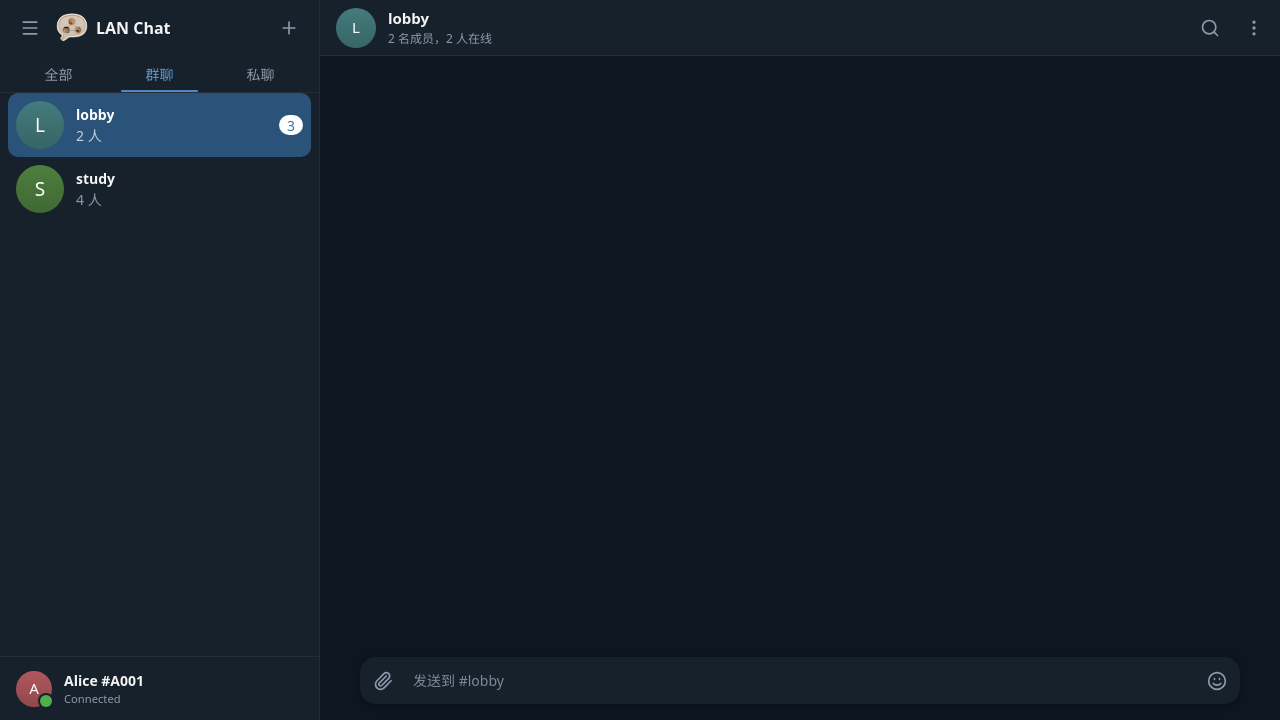
WorkspacePage › toggles the info panel from the header
Click the button with aria-label "会话信息".
click(356, 28)  # box [328,3,1184,52]
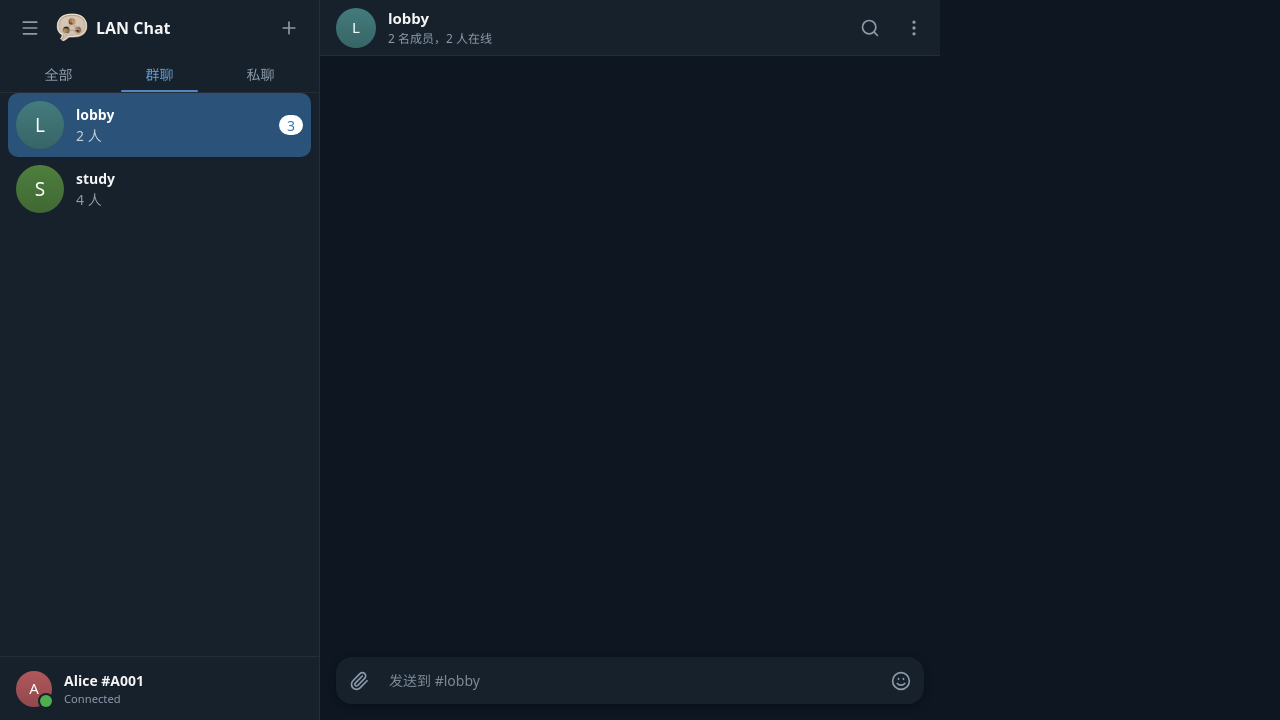
Click the button with aria-label "会话信息".
click(356, 28)  # box [328,3,844,52]
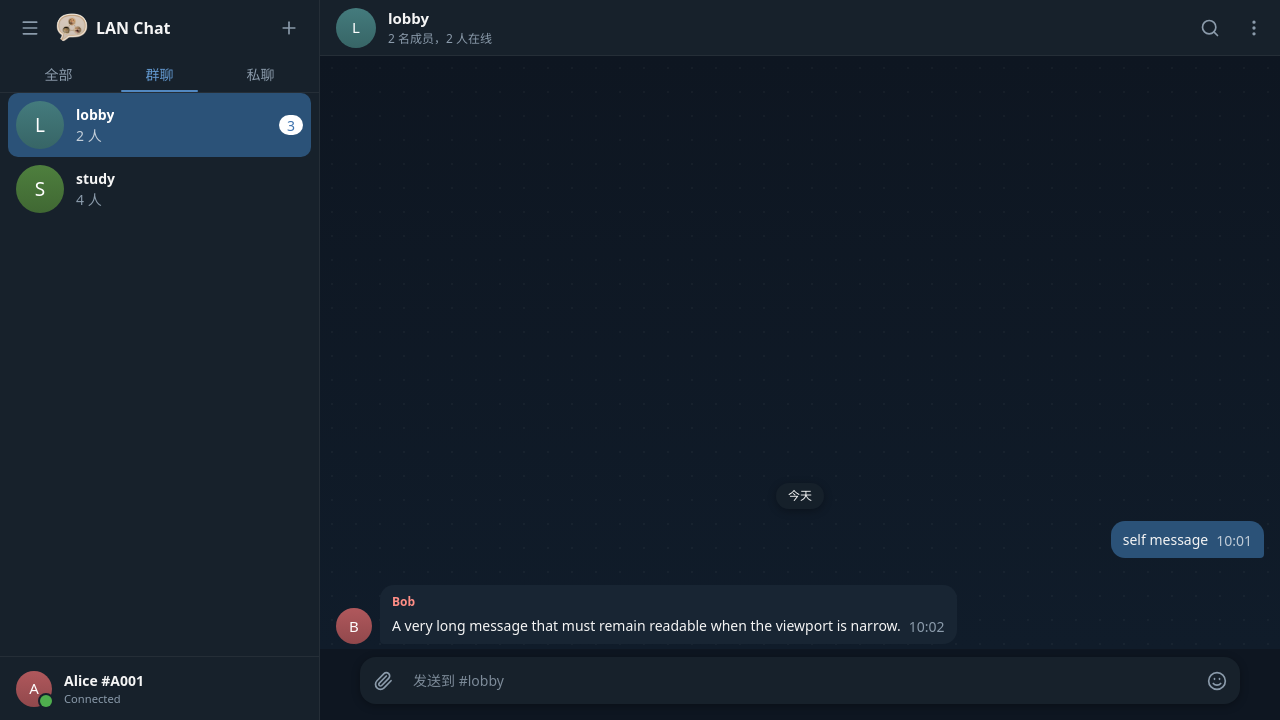
expect the button with aria-label "会话信息" is collapsed: met, box [328,3,1184,52]
